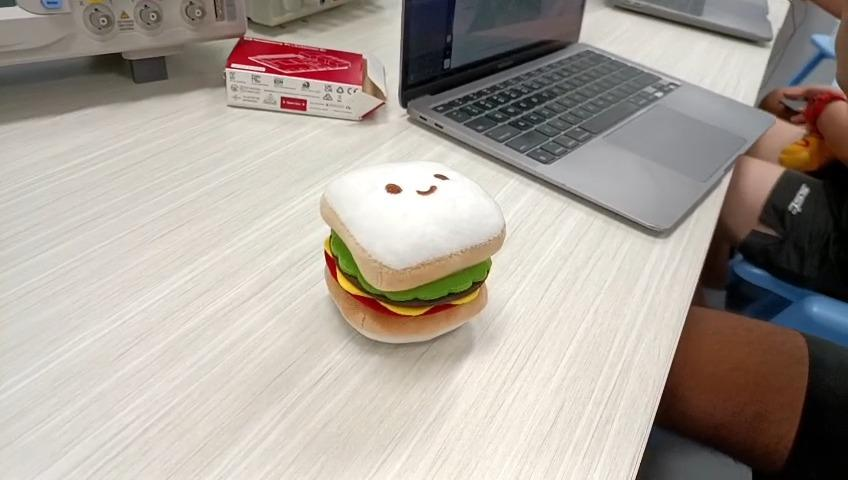objects: (315, 158, 508, 349)
